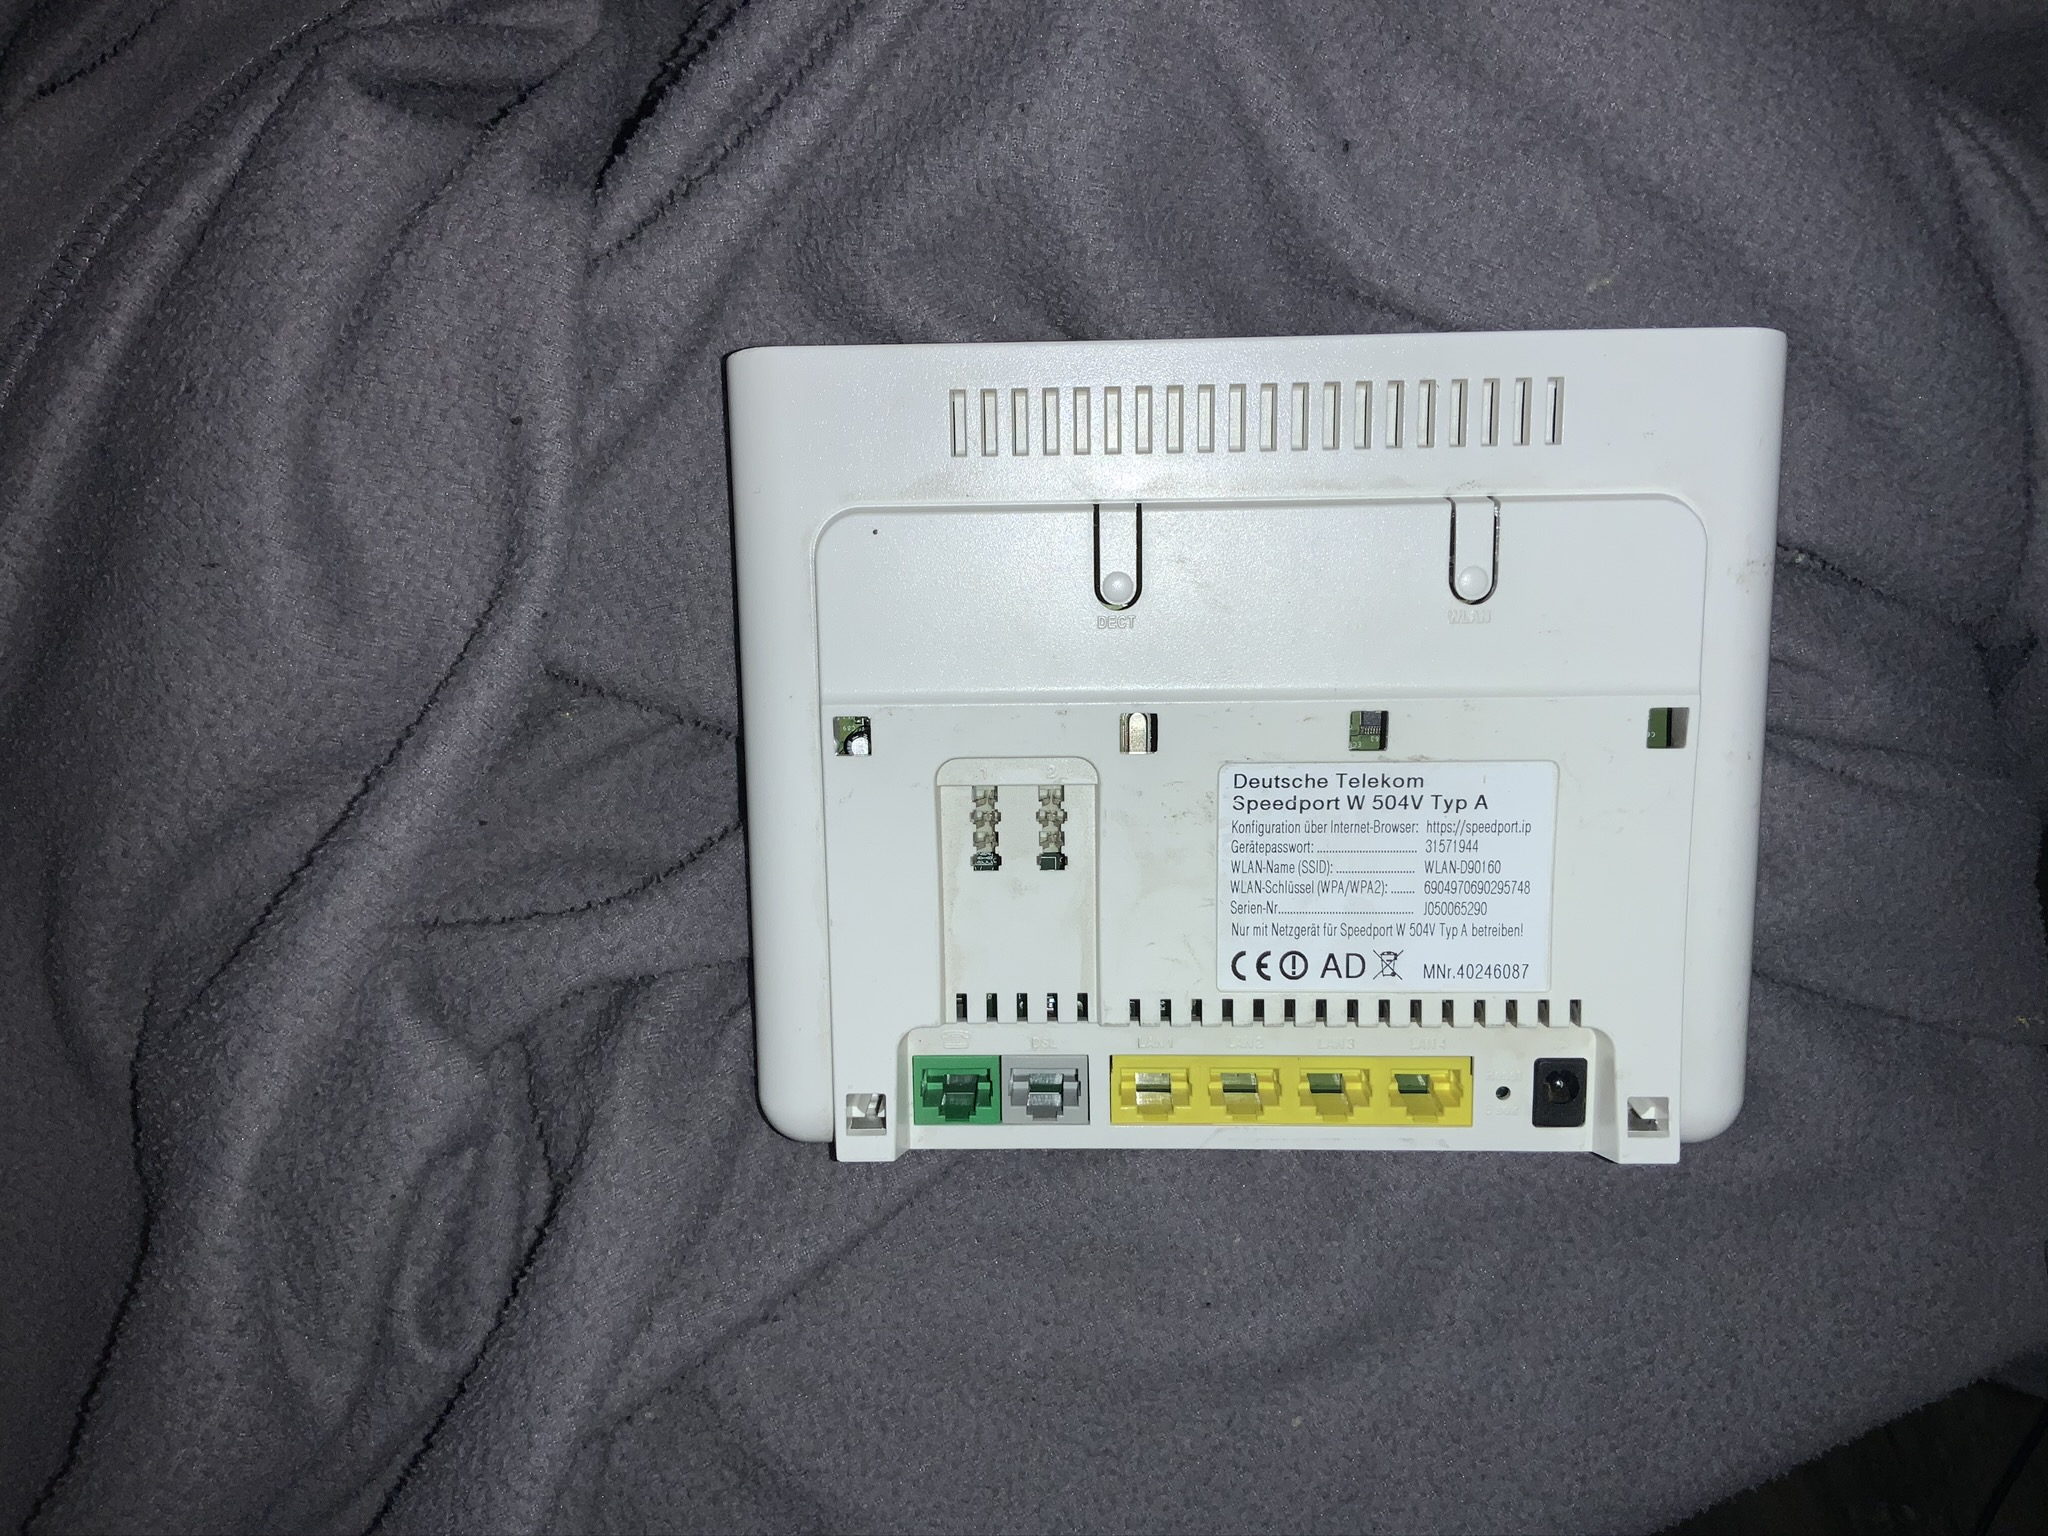Router2: (716, 316, 1798, 1179)
